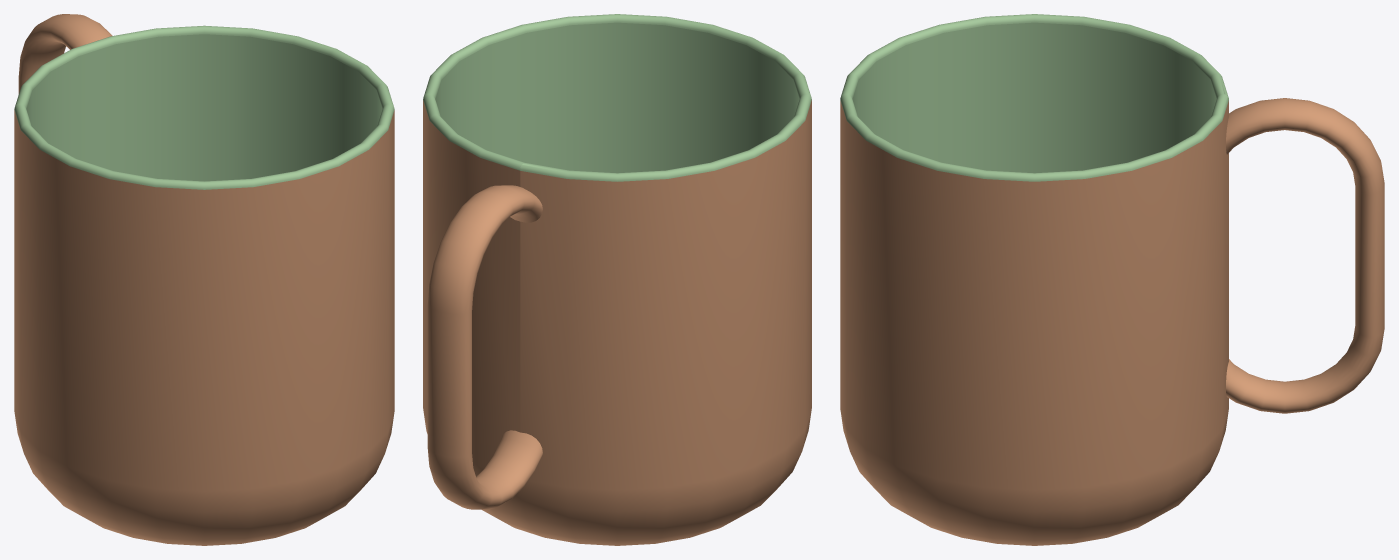
3 renders of one model, left to right at view 1: azimuth 30°, elevation 25°; view 2: azimuth 150°, elevation 25°; view 3: azimuth 270°, elevation 25°, orthographic. The views are drawn at different scales.
Visible parts, largest first — view 1: mesh1_mesh1-geometry_2, mesh1_mesh1-geometry_1, mesh3_mesh3-geometry; view 2: mesh1_mesh1-geometry_2, mesh1_mesh1-geometry_1, mesh3_mesh3-geometry; view 3: mesh1_mesh1-geometry_2, mesh1_mesh1-geometry_1, mesh3_mesh3-geometry.
Part boxes in pixels (x1,y1,x2,y2): mesh1_mesh1-geometry_2: [14, 110, 394, 545]; mesh1_mesh1-geometry_1: [14, 25, 394, 189]; mesh3_mesh3-geometry: [18, 14, 112, 93]; mesh1_mesh1-geometry_2: [423, 100, 811, 545]; mesh1_mesh1-geometry_1: [423, 14, 811, 181]; mesh3_mesh3-geometry: [427, 185, 542, 509]; mesh1_mesh1-geometry_2: [840, 100, 1228, 545]; mesh1_mesh1-geometry_1: [840, 14, 1228, 181]; mesh3_mesh3-geometry: [1226, 98, 1384, 413].
Bounding box in the file's own units: 0.4844 × 0.5525 × 0.6783.
